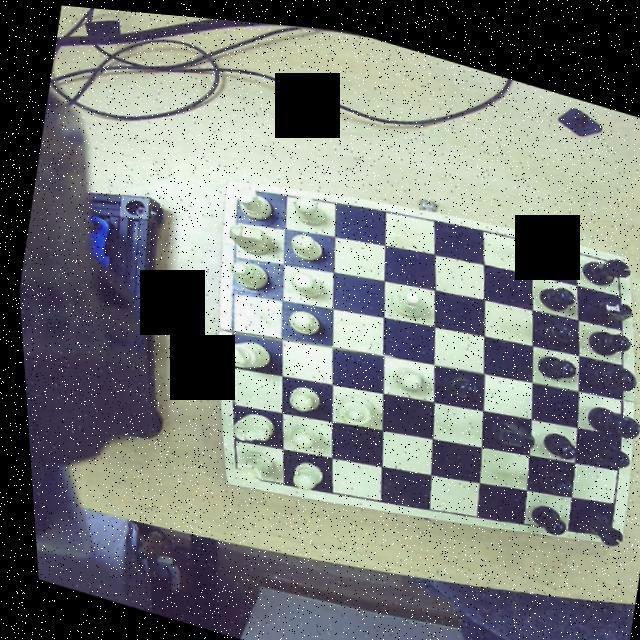chess-table-corners: (223, 172, 256, 204), (216, 452, 246, 482), (585, 510, 618, 536), (600, 241, 628, 268)
